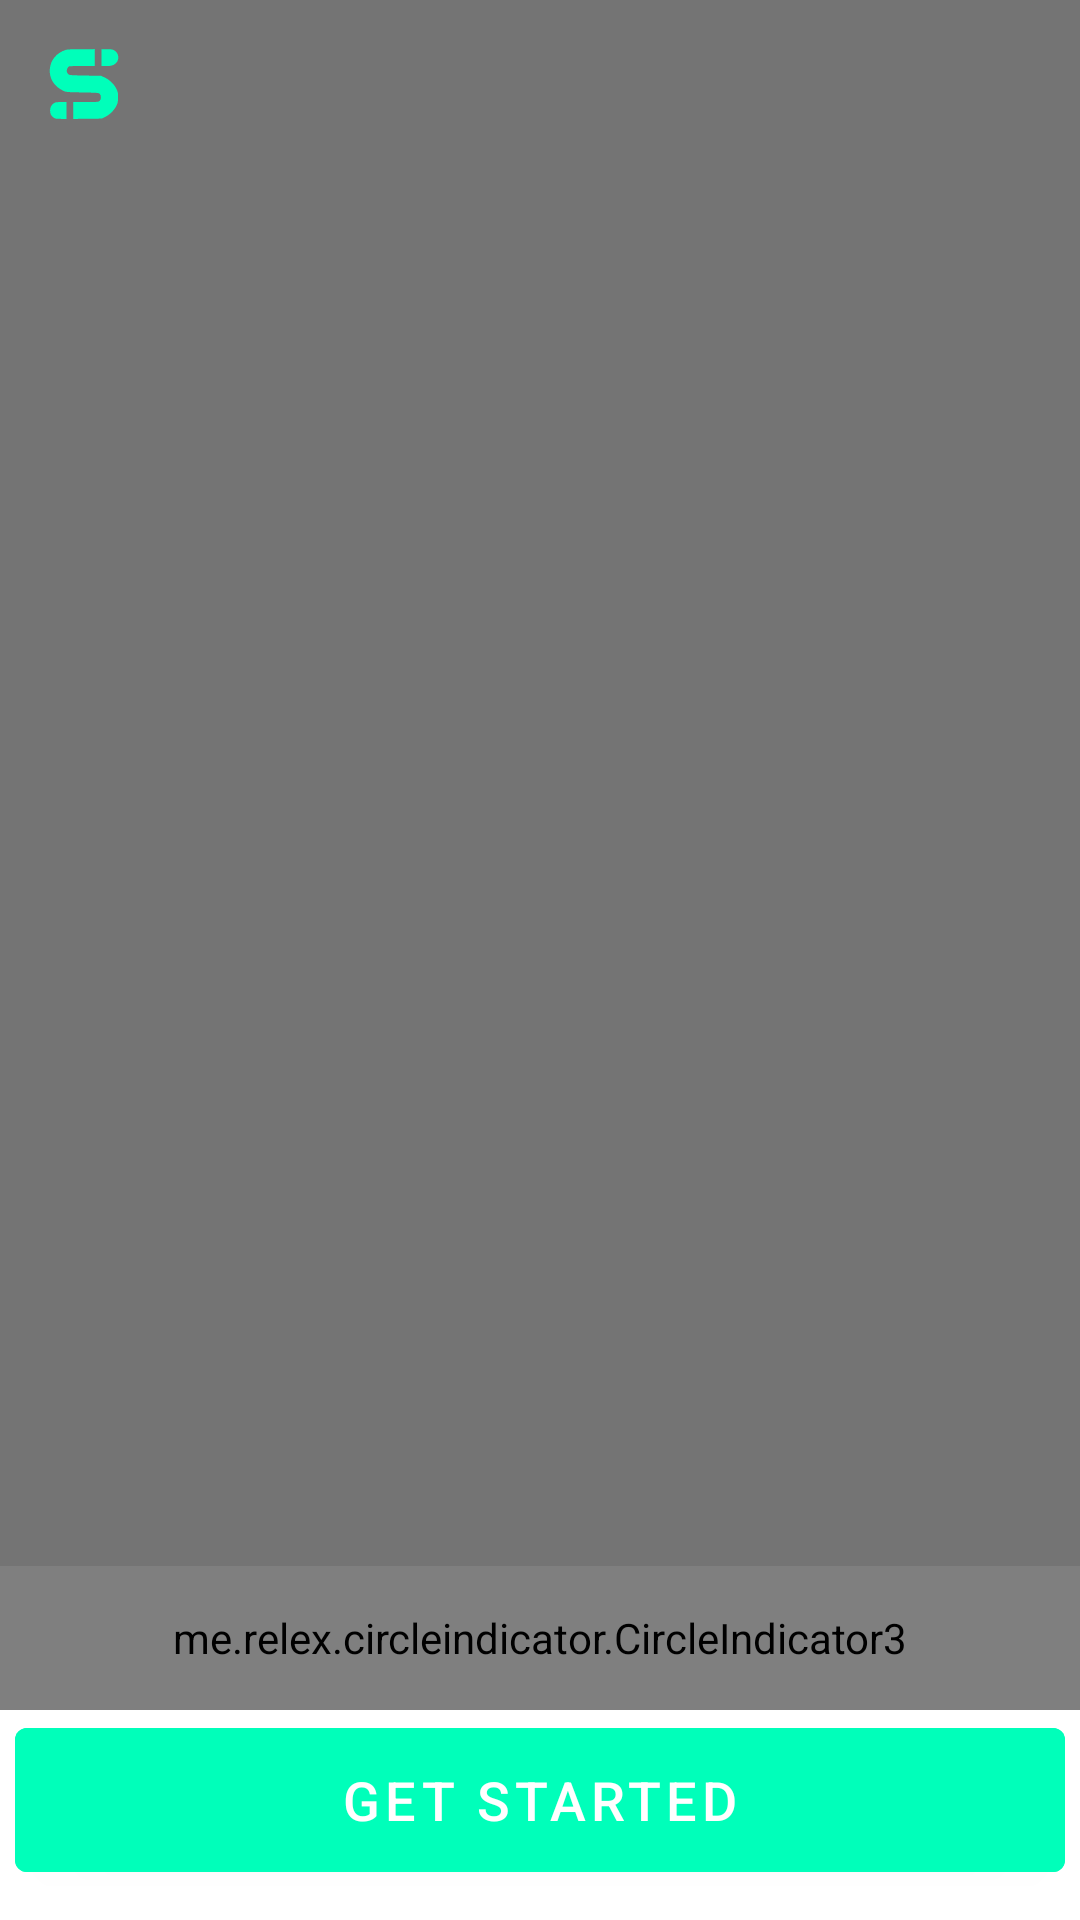

Named icons in this screenshot (1080 × 1920) and their bounding boxes, (x1, y1, x2, y2):
appicon: (49, 49, 119, 119)
